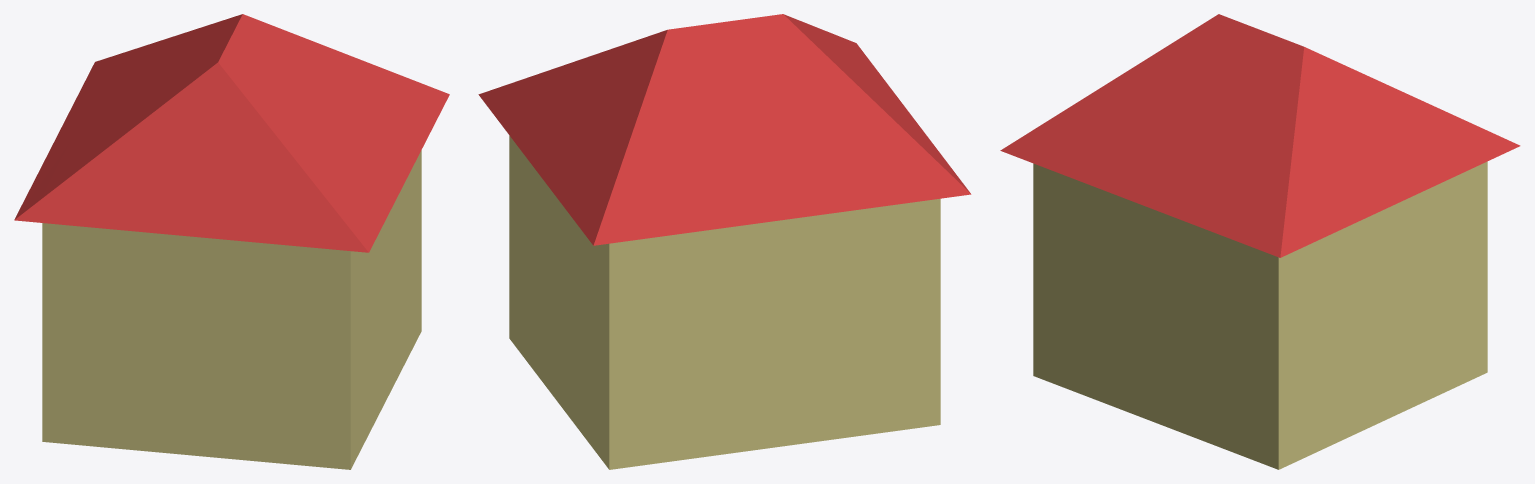
The picture shows the model from 3 angles, left to right: view 1: azimuth 30°, elevation 25°; view 2: azimuth 150°, elevation 25°; view 3: azimuth 270°, elevation 25°; orthographic projection. The views are drawn at different scales.
Visible parts, largest first — view 1: group_5, group_3, group_4; view 2: group_5, group_3, group_4; view 3: group_5, group_3, group_4.
Boxes of the visible parts, <box> form: group_5: <box>42,150,421,469</box>; group_3: <box>14,14,449,252</box>; group_4: <box>14,80,449,252</box>; group_5: <box>509,135,940,469</box>; group_3: <box>512,14,970,245</box>; group_4: <box>478,83,970,245</box>; group_5: <box>1033,161,1487,469</box>; group_3: <box>1033,14,1481,257</box>; group_4: <box>1000,127,1520,257</box>.
Size of the model in its own units: 22.12 by 22.18 by 16.14.
